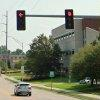traffic lights: (16, 10, 26, 32), (65, 11, 74, 31)
